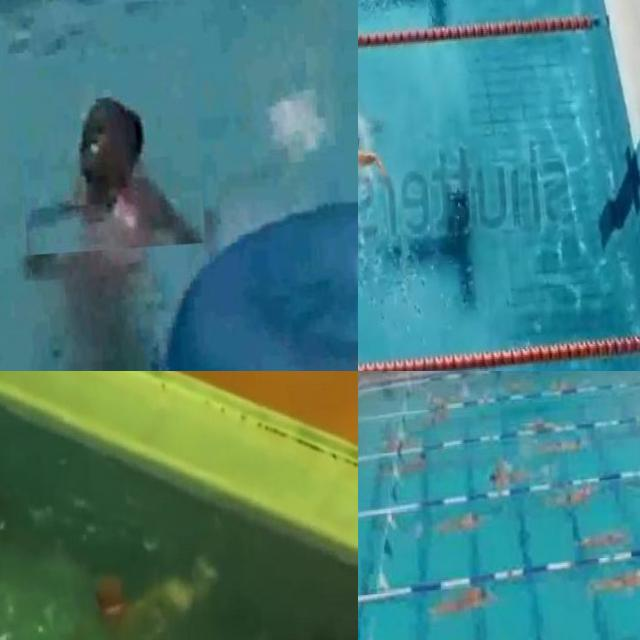drowning: (13, 48, 205, 256), (84, 546, 191, 640)
swimming: (358, 87, 417, 233), (434, 580, 494, 618), (550, 479, 594, 513), (595, 563, 640, 596), (489, 458, 533, 491), (409, 402, 454, 434), (439, 502, 484, 534), (545, 428, 589, 460), (582, 522, 626, 554), (390, 445, 432, 477), (515, 408, 554, 434)
